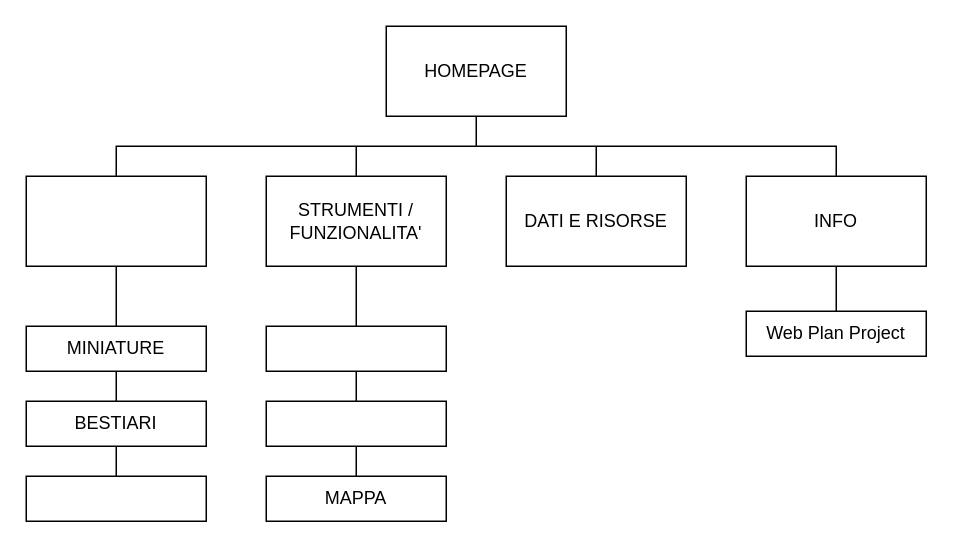
This 953x548 diagram has some shape labels left out. The shapes that lost their labels are listed below. From the top down, each one's centre as x and y in pixels, then its label:
point (115, 220): CATEGORIE
point (355, 348): RICERCA
point (355, 423): TIMELINE
point (115, 498): SIMBOLI
